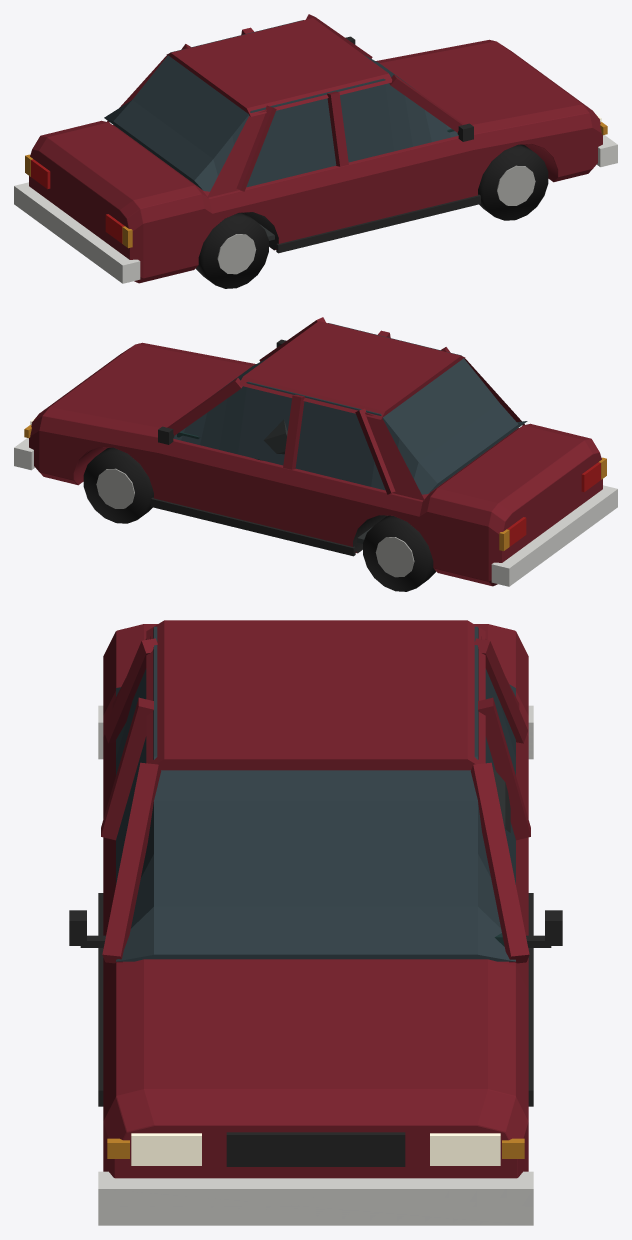
File: pelister.glb
The picture shows the model from 3 angles, top to bottom: view 1: azimuth 30°, elevation 25°; view 2: azimuth 150°, elevation 25°; view 3: azimuth 270°, elevation 25°; orthographic projection. The views are drawn at different scales.
Visible parts, largest first — view 1: Body, Greenhouse, Roof, Bumper_R, Tire_RR, Tire_FR, Sill_R, Pillar_C_R, Hub_RR, Hub_FR, Pillar_B_R, Pillar_A_R (+3 smaller); view 2: Body, Greenhouse, Roof, Bumper_R, Tire_RL, Tire_FL, Sill_L, Pillar_C_L, Hub_RL, Hub_FL, Pillar_B_L, Pillar_A_L (+4 smaller); view 3: Body, Greenhouse, Roof, Bumper_F, Grille, Pillar_A_L, Pillar_A_R, Pillar_B_R, Pillar_B_L, Lamp_Head_L, Lamp_Head_R, Pillar_Cedge_R (+3 smaller).
Part boxes in pixels (left/top/right/bottom): Body: left=29, top=39, right=602, bottom=283; Greenhouse: left=104, top=20, right=458, bottom=191; Roof: left=166, top=18, right=392, bottom=116; Bumper_R: left=14, top=182, right=140, bottom=283; Tire_RR: left=196, top=212, right=268, bottom=288; Tire_FR: left=478, top=144, right=548, bottom=220; Sill_R: left=276, top=194, right=480, bottom=253; Pillar_C_R: left=207, top=109, right=266, bottom=197; Hub_RR: left=217, top=234, right=256, bottom=274; Hub_FR: left=497, top=165, right=535, bottom=205; Pillar_B_R: left=327, top=91, right=348, bottom=166; Pillar_A_R: left=389, top=75, right=464, bottom=132; Body: left=29, top=342, right=602, bottom=586; Greenhouse: left=173, top=323, right=527, bottom=494; Roof: left=239, top=321, right=465, bottom=419; Bumper_R: left=491, top=485, right=617, bottom=586; Tire_RL: left=363, top=515, right=435, bottom=591; Tire_FL: left=83, top=447, right=153, bottom=523; Sill_L: left=151, top=497, right=355, bottom=556; Pillar_C_L: left=365, top=412, right=424, bottom=500; Hub_RL: left=375, top=537, right=414, bottom=577; Hub_FL: left=96, top=468, right=134, bottom=508; Pillar_B_L: left=283, top=394, right=304, bottom=469; Pillar_A_L: left=167, top=378, right=242, bottom=435; Body: left=103, top=624, right=528, bottom=1178; Greenhouse: left=116, top=626, right=515, bottom=961; Roof: left=146, top=620, right=485, bottom=770; Bumper_F: left=98, top=1171, right=533, bottom=1225; Grille: left=226, top=1132, right=405, bottom=1166; Pillar_A_L: left=470, top=762, right=529, bottom=963; Pillar_A_R: left=102, top=762, right=161, bottom=963; Pillar_B_R: left=101, top=697, right=153, bottom=840; Pillar_B_L: left=478, top=697, right=530, bottom=840; Lamp_Head_L: left=430, top=1133, right=500, bottom=1165; Lamp_Head_R: left=131, top=1133, right=201, bottom=1165; Pillar_Cedge_R: left=104, top=638, right=157, bottom=743.
Bounding box in the file's own units: 4.52 × 1.44 × 1.95.
